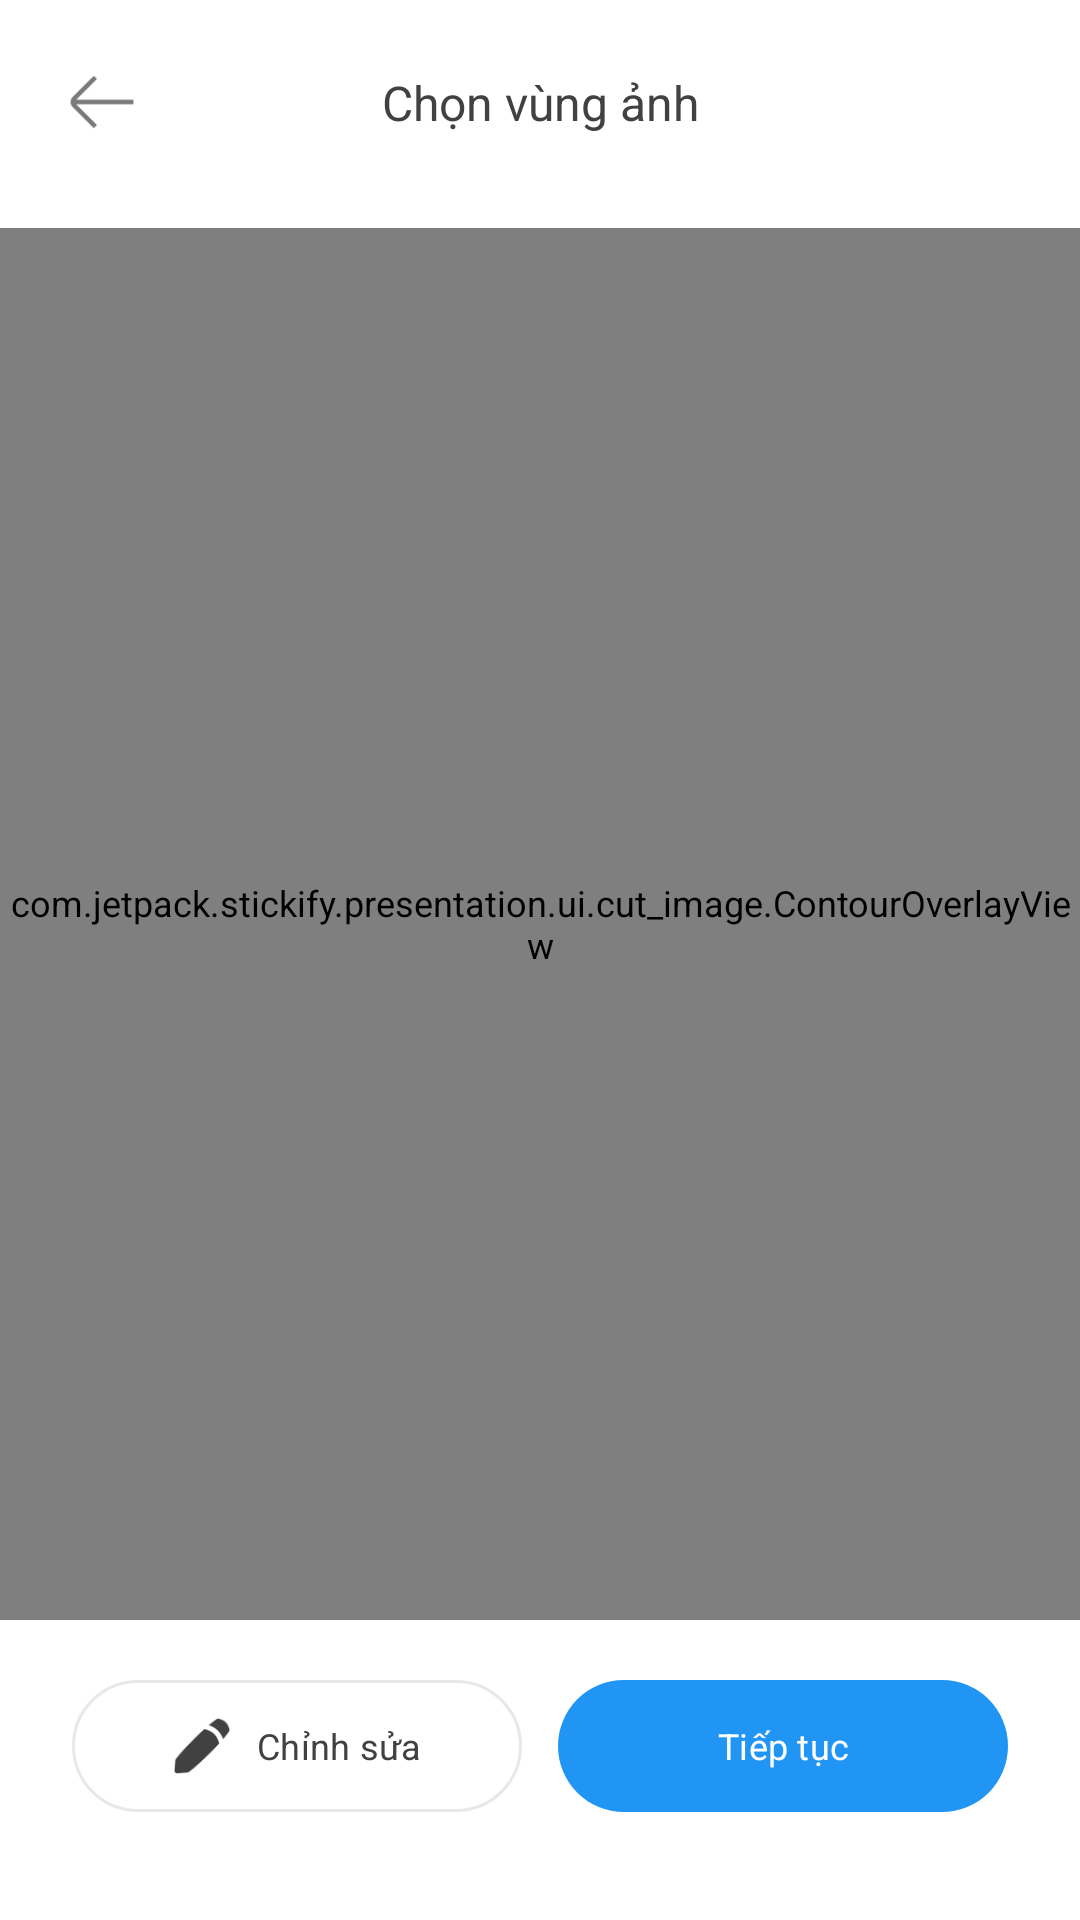

Where icons sit on this 1080px x 1920px app screen, as [x1,y1,x2,y2]:
back: [70,76,134,128]
